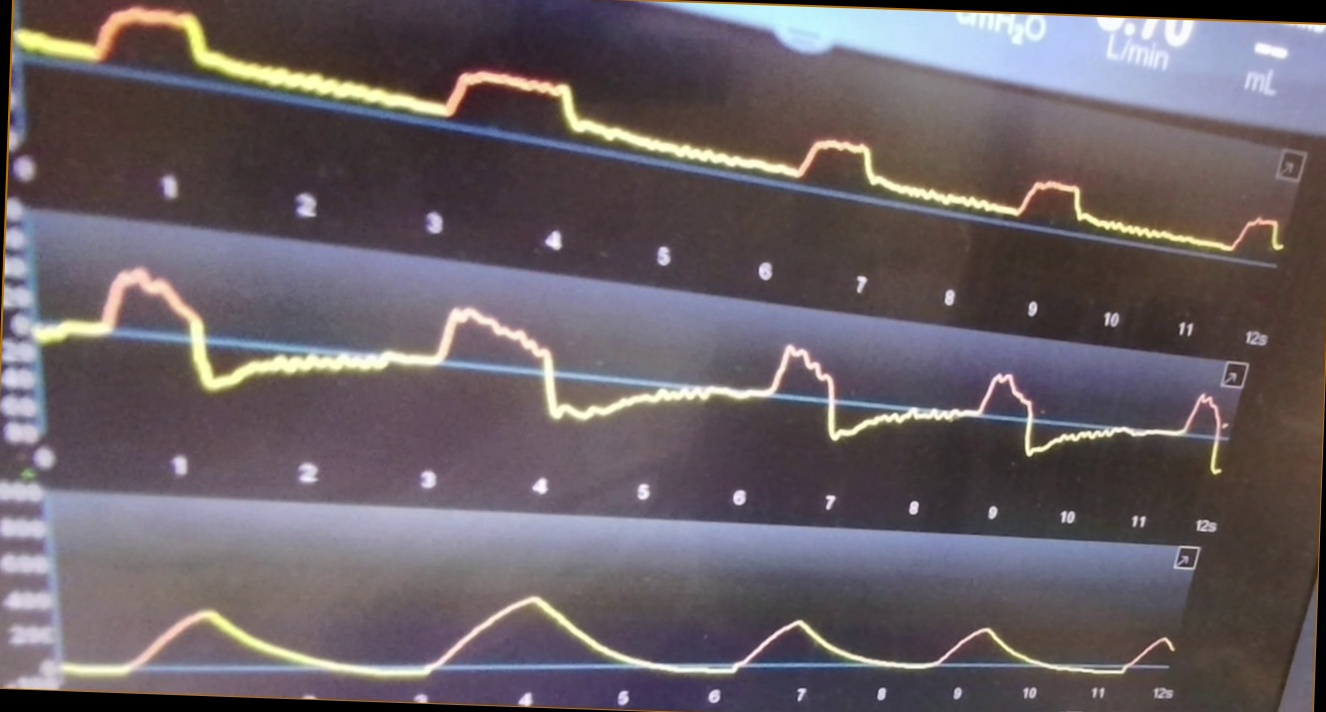Accumulation Flow: (29, 260, 1225, 481)
Volume: (60, 556, 1179, 707)
